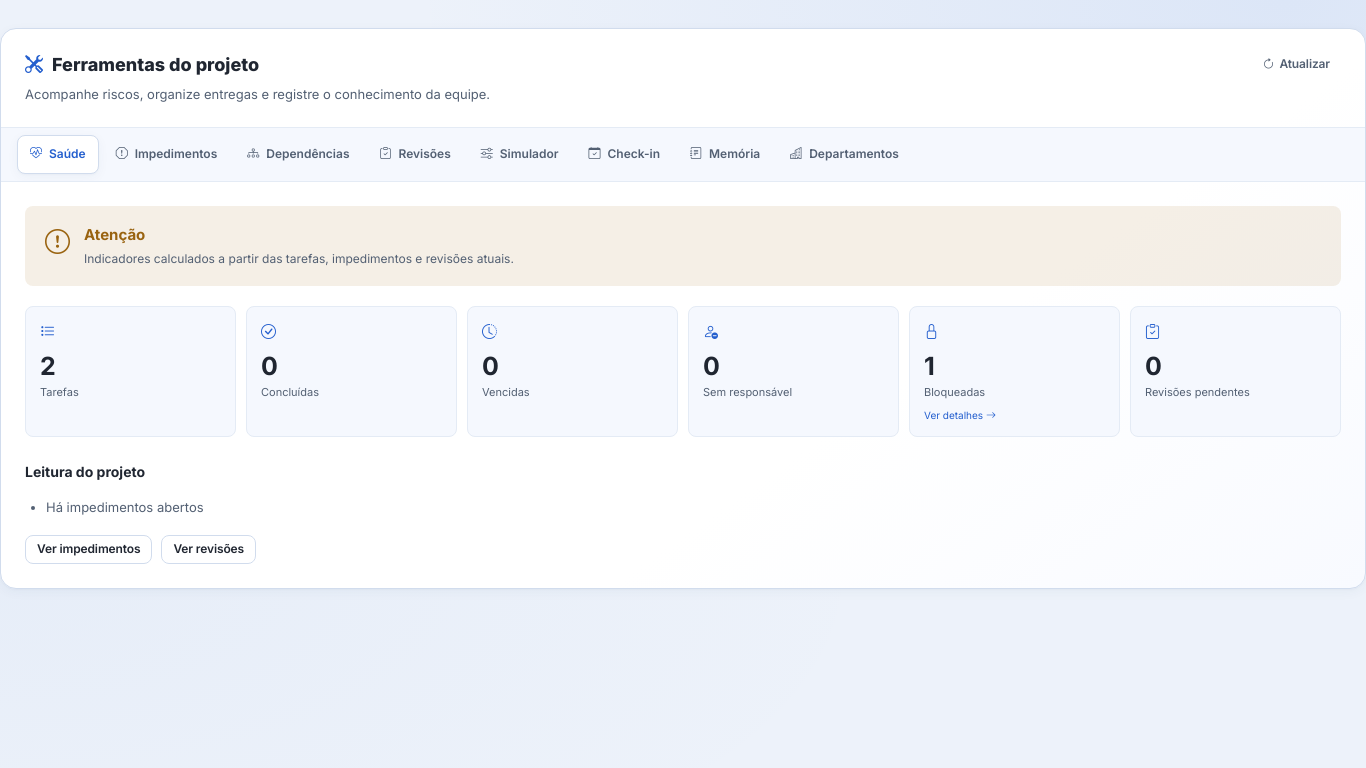
Scenario: atualizar as ferramentas invalida o resultado da simulação anterior
The width and height of the screenshot is (1366, 768).
Click the tab "Simulador" at (520, 154), box [468,135,572,174]
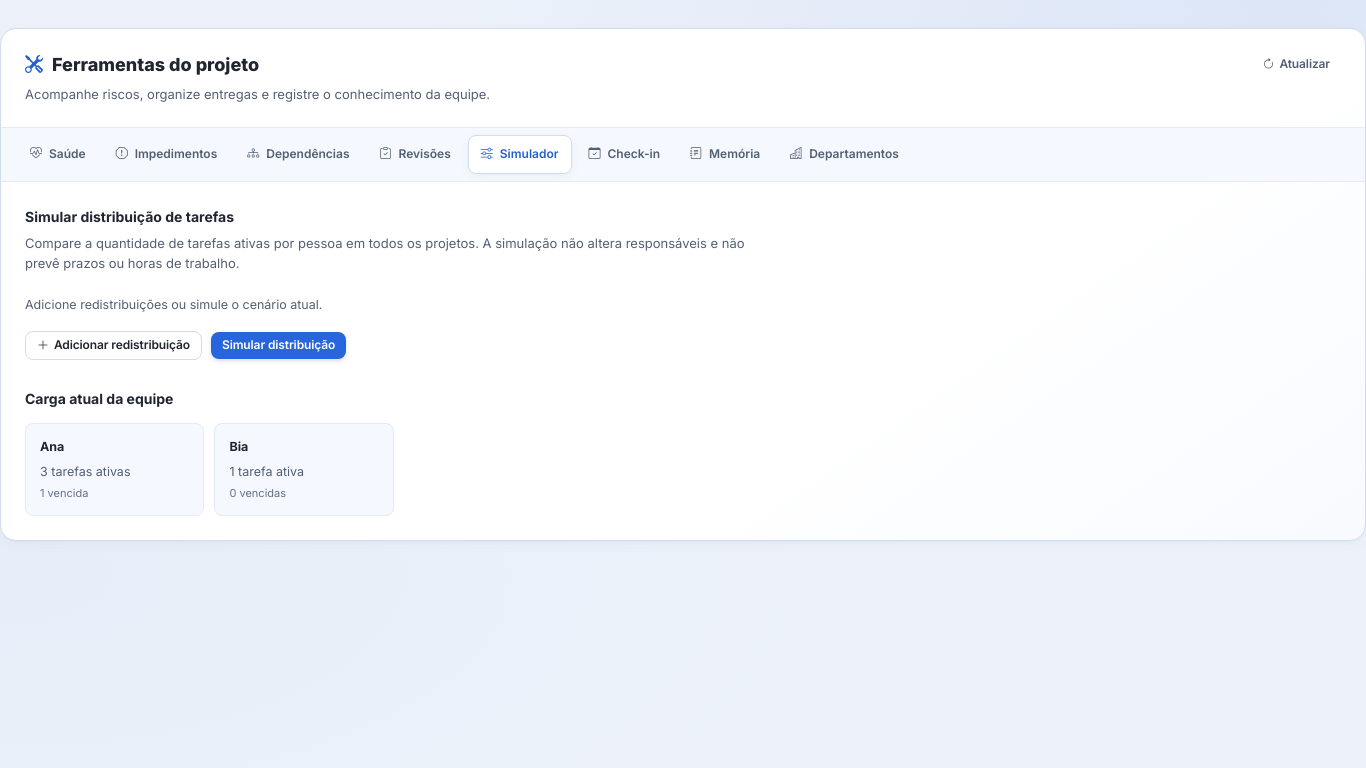
Submit the form, box [25,297,346,360]
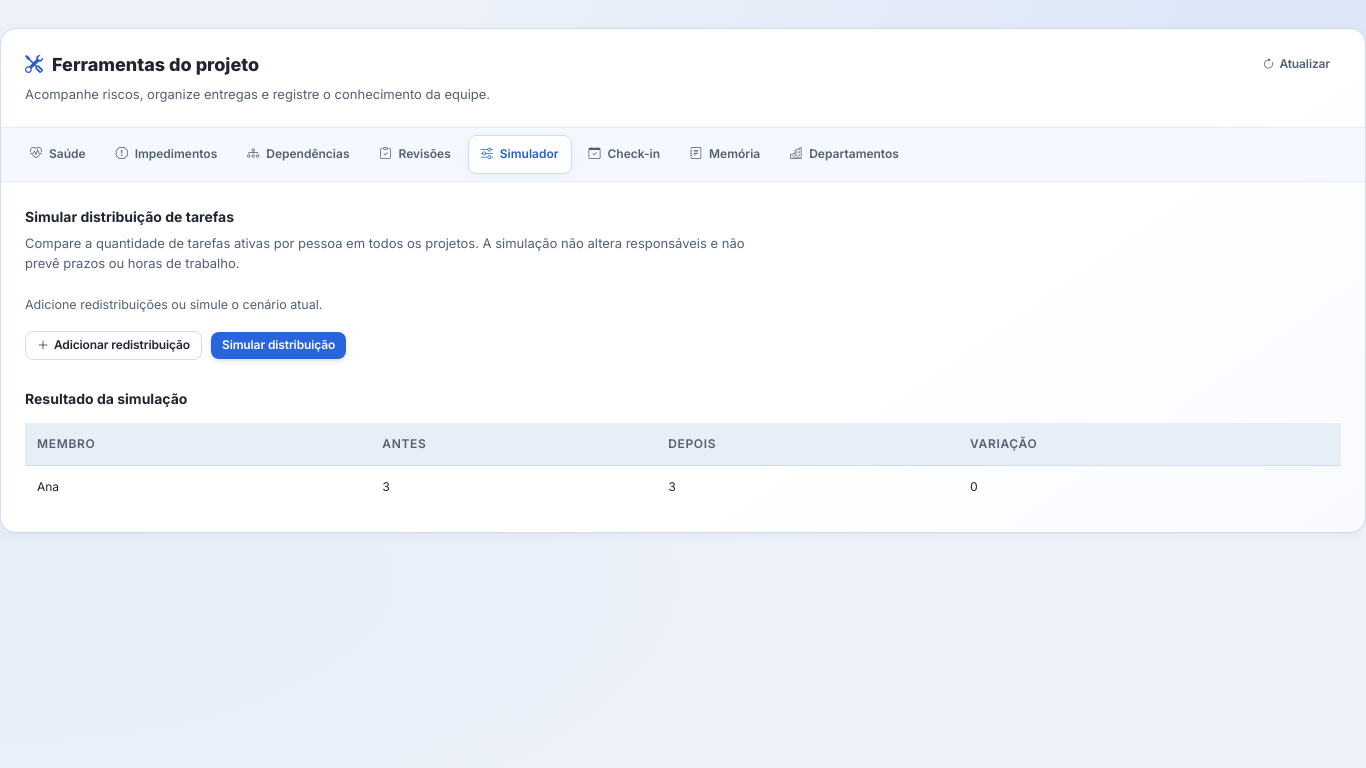
Result: the text "Resultado da simulação" is shown at [25,390,187,407]
Click the button "Atualizar" at (1296, 64), box [1252,51,1341,78]
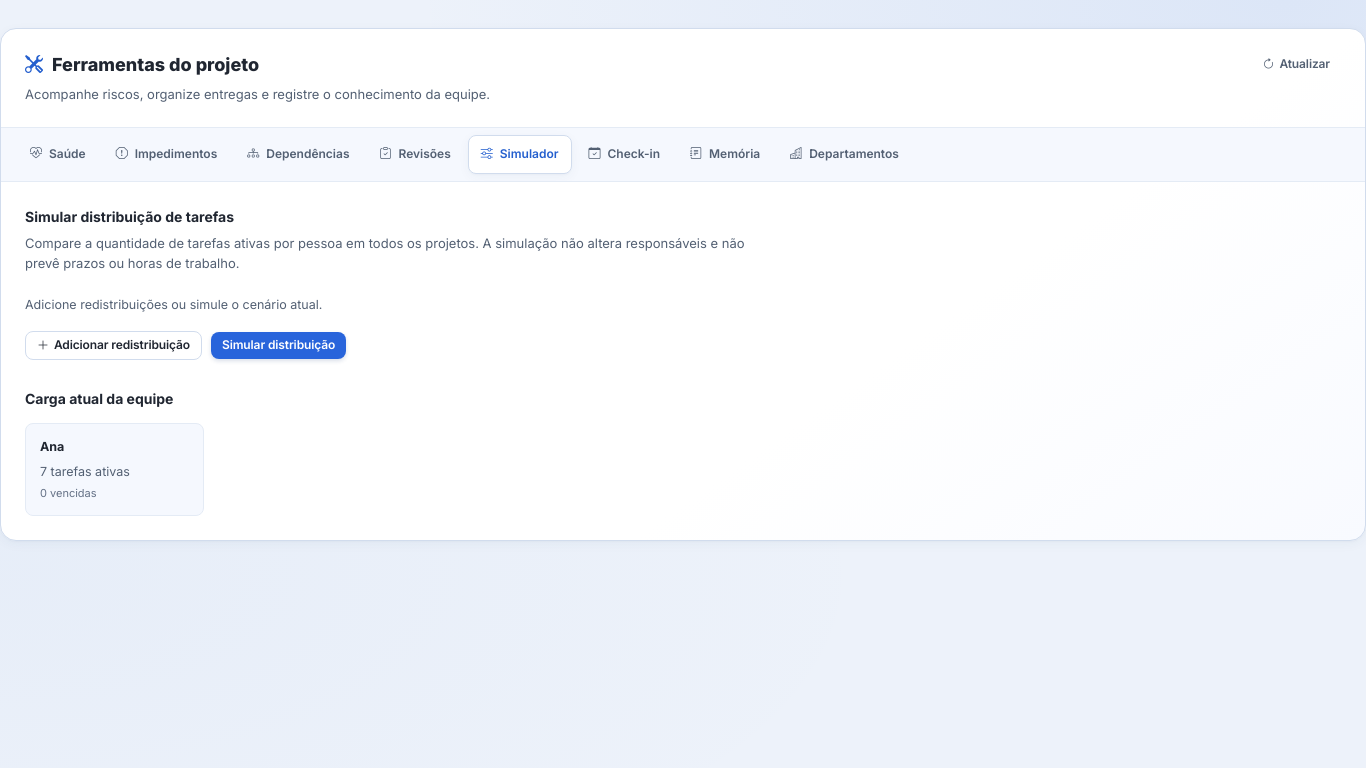
Result: the text "Resultado da simulação" is gone
Result: the text "7 tarefas ativas" is shown at [40,464,130,479]
